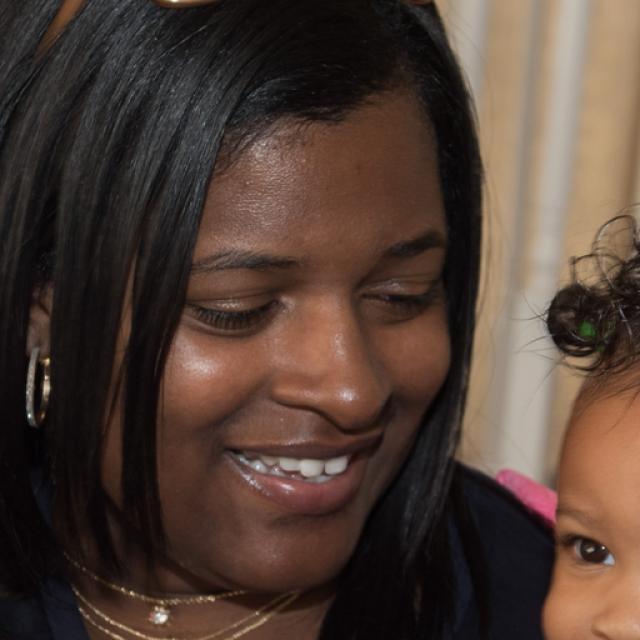happy: (155, 82, 455, 592), (541, 320, 639, 640)
